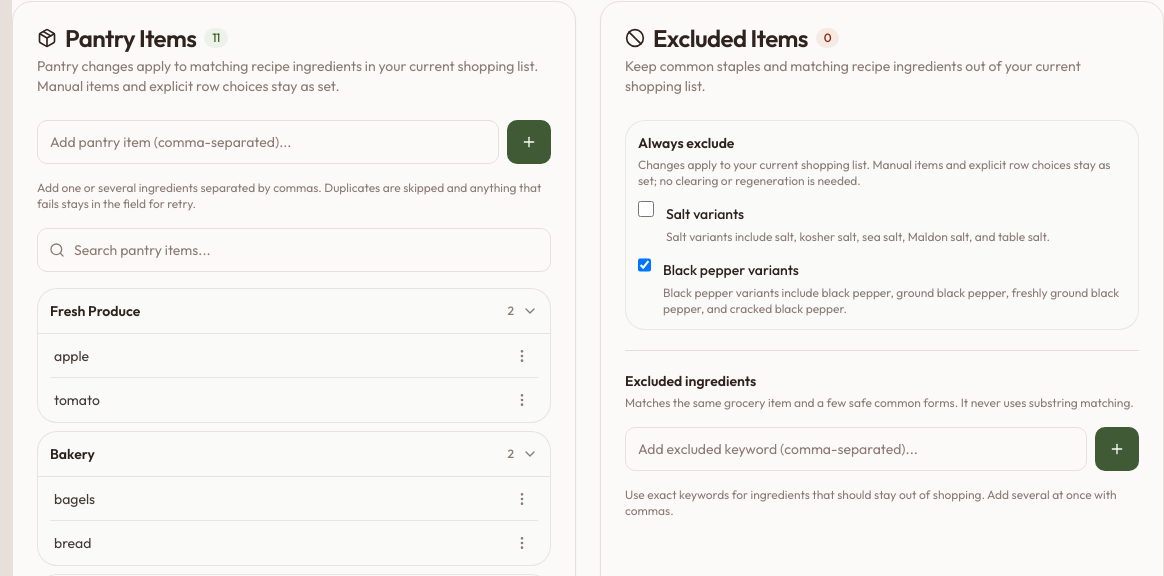
Test case: PantryList › groups Pantry items, restores collapse state after search, and keeps unmatched items in Other
Click the button "Fresh Produce 2" at (95, 311), box [38,289,550,333]
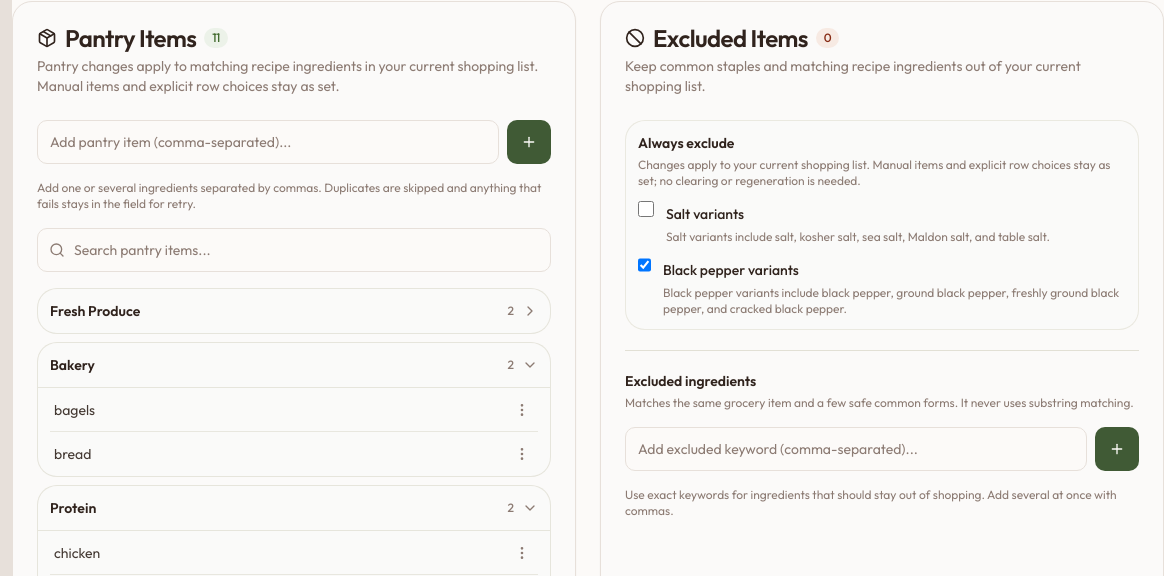
Result: the button "Fresh Produce 2" is collapsed at [38,289,550,333]
Result: the text "tomato" is gone
Type "tomato" into the search field labelled "Search pantry items" at (294, 250), box [37,228,551,272]
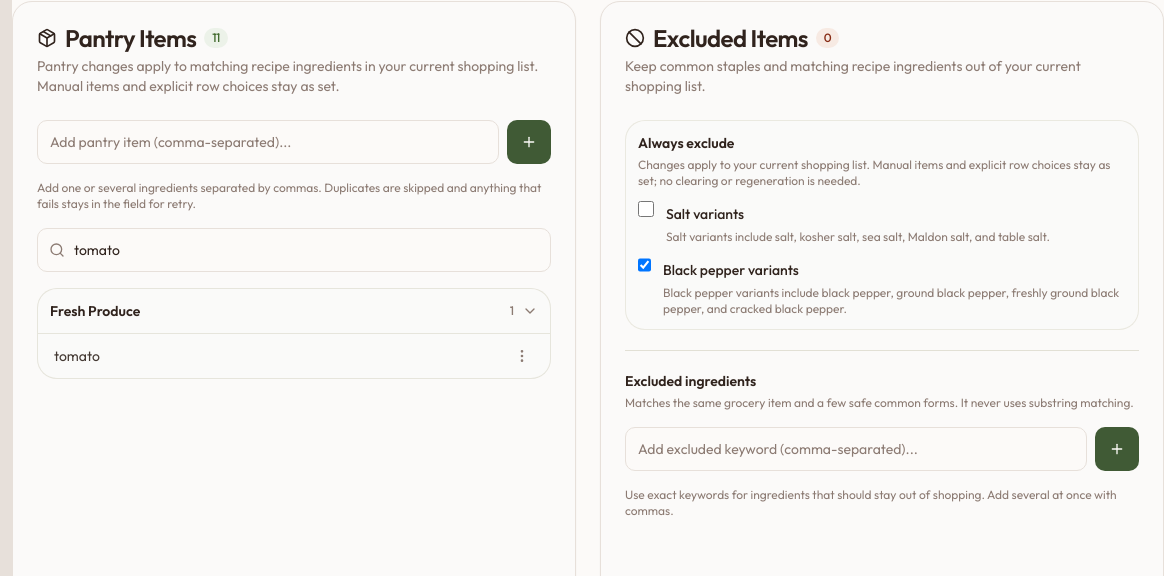
Result: the button named "Fresh Produce 2" is expanded at [38,289,550,333]
Result: the text "tomato" is shown at [54,346,100,366]
Replace the text in the search field named "Search pantry items" with "not in this pantry" at (294, 250), box [37,228,551,272]
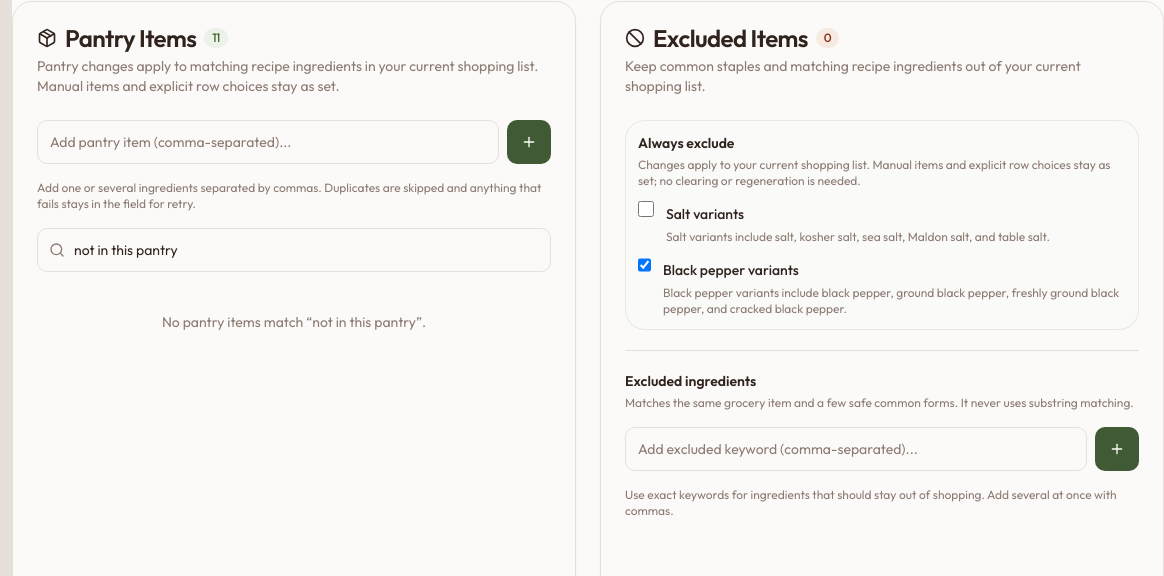
Result: the text "No pantry items match “not in this pantry”." is shown at [162,313,426,331]
Clear the search field named "Search pantry items" at (294, 250), box [37,228,551,272]
(page scrolled)
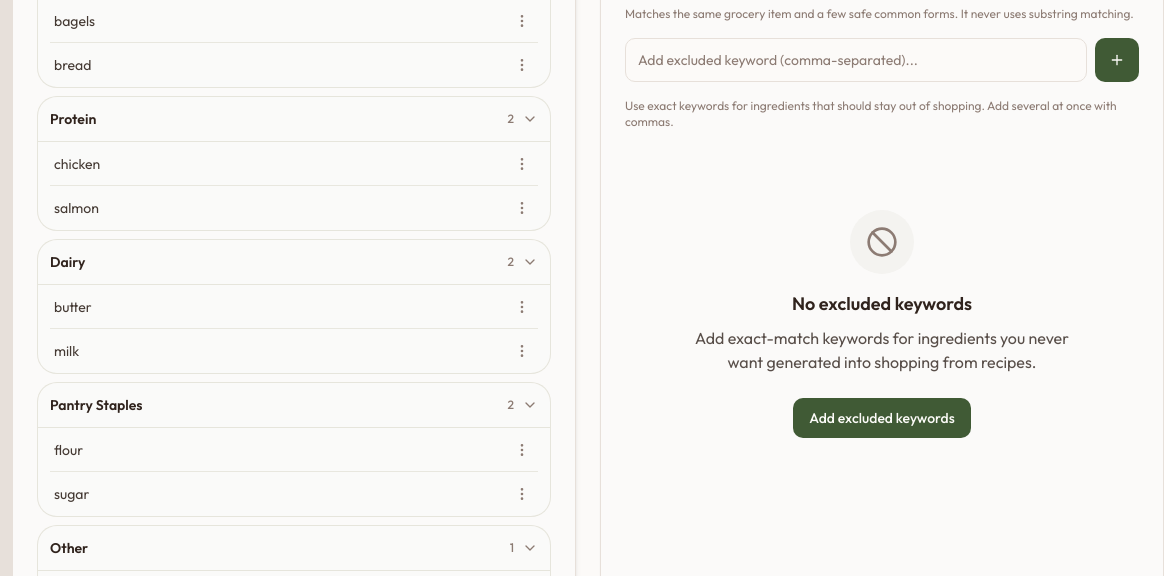
Expected: the text "tomato" is not shown
Result: the button "Pantry Staples 2" is shown at [38,383,550,427]
